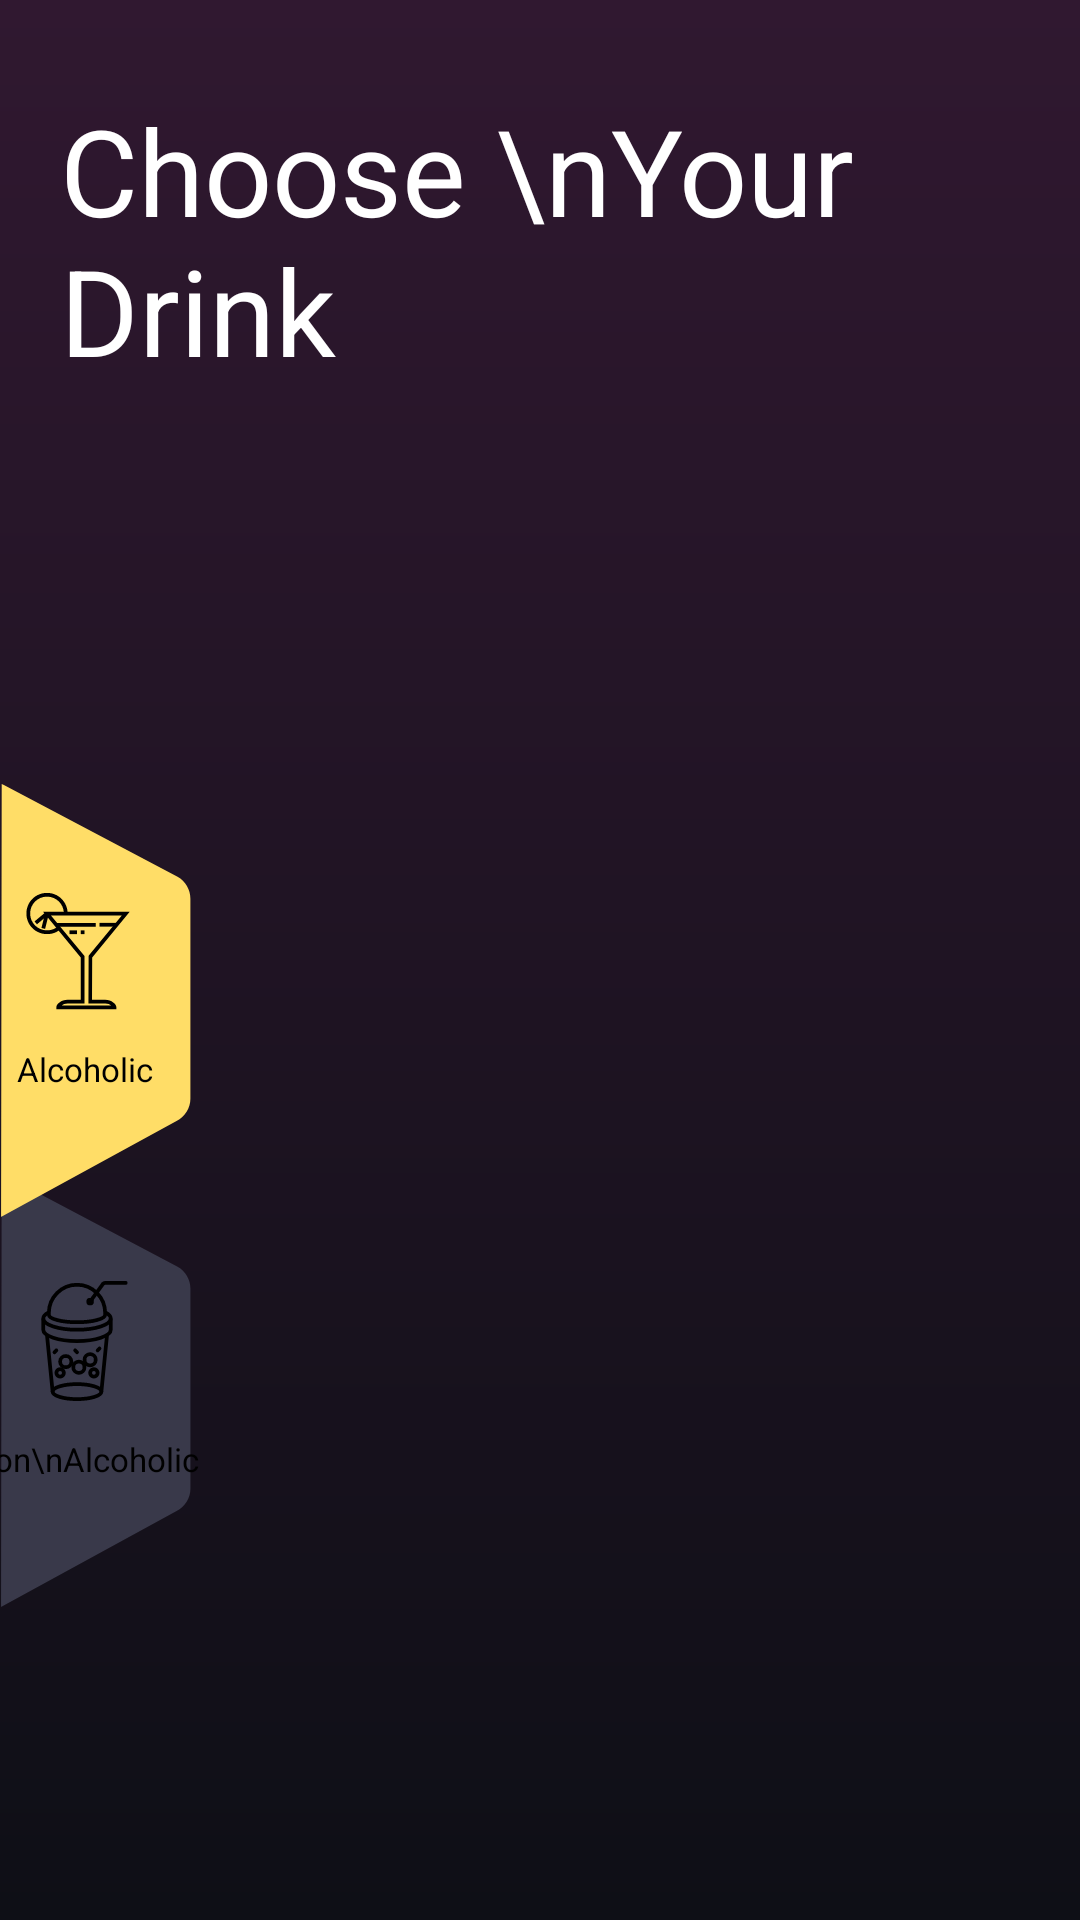

Screen size 1080*1920. Icon name, then its center in pixels as (x,y):
non alcohol: (84,1341)
